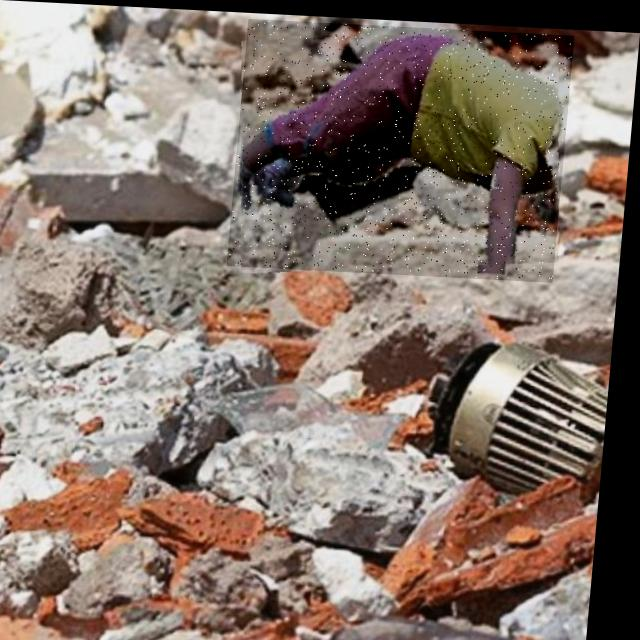Person in Rubble: (231, 16, 575, 276)
